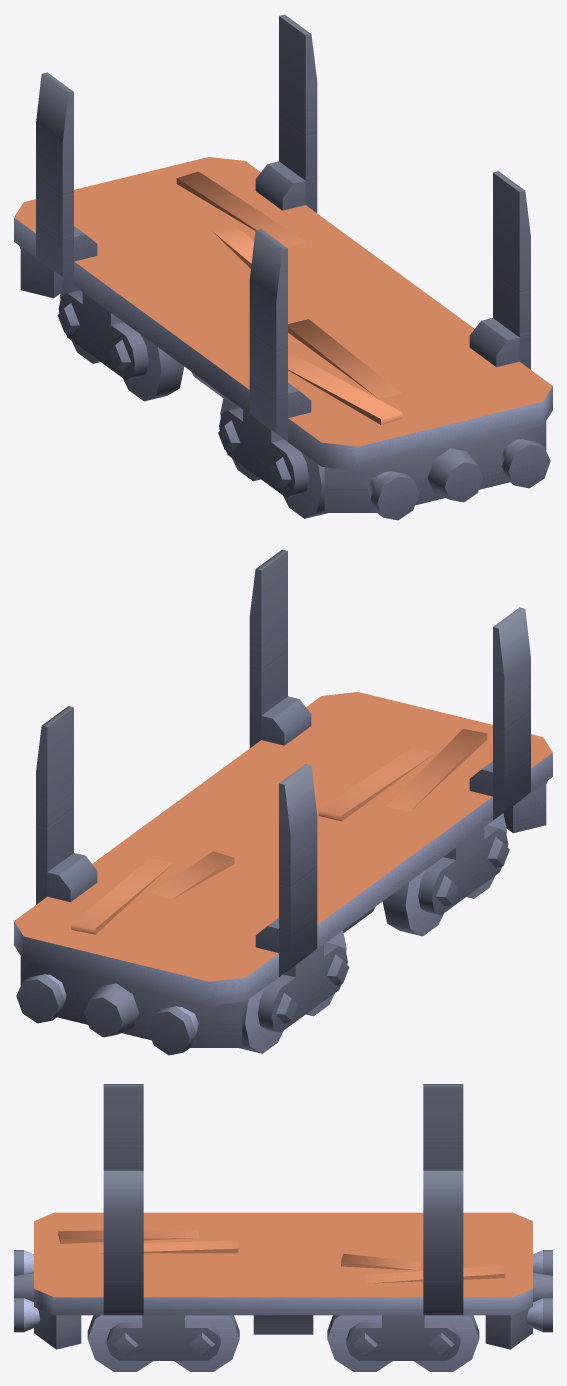
The model's file is train-carriage-flatbed-wood.glb.
3 views of the same model, one above another, from view 1: azimuth 30°, elevation 25°; view 2: azimuth 150°, elevation 25°; view 3: azimuth 270°, elevation 25° (orthographic). The views are drawn at different scales.
Parts seen in each view (by area): view 1: train-carriage-flatbed-wood, wheels-back, wheels-front; view 2: train-carriage-flatbed-wood, wheels-front, wheels-back; view 3: train-carriage-flatbed-wood, wheels-front, wheels-back.
Part boxes in pixels (bbox=[...]): train-carriage-flatbed-wood: bbox=[14, 14, 552, 520]; wheels-back: bbox=[57, 278, 184, 401]; wheels-front: bbox=[218, 396, 327, 518]; train-carriage-flatbed-wood: bbox=[14, 549, 552, 1055]; wheels-front: bbox=[382, 813, 509, 936]; wheels-back: bbox=[239, 931, 349, 1053]; train-carriage-flatbed-wood: bbox=[14, 1084, 552, 1349]; wheels-front: bbox=[87, 1315, 239, 1371]; wheels-back: bbox=[327, 1315, 479, 1371].
Bounding box in the file's own units: 1.1 × 1.16 × 2.7.
Materials: 1 (1 with a texture image).
